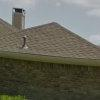Chimney: (9, 3, 34, 36)
